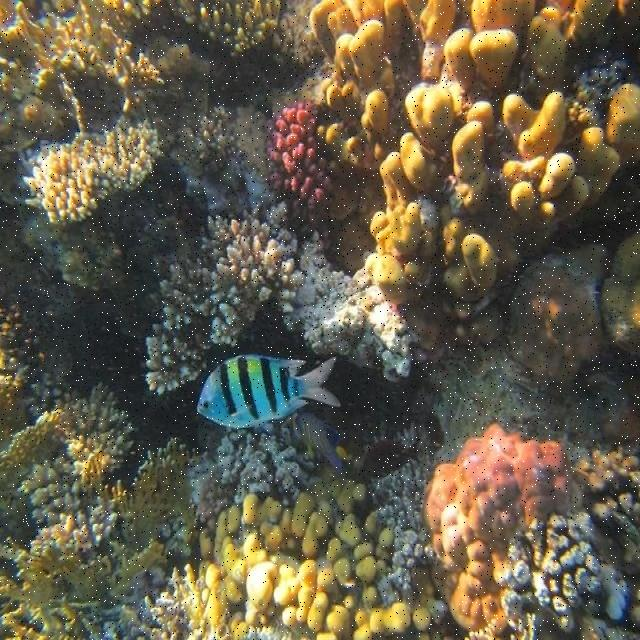aquatic plants: (1, 437, 200, 639)
fish: (195, 355, 338, 427), (283, 412, 348, 476)
reefs: (310, 0, 639, 345), (0, 1, 283, 228), (112, 478, 431, 639), (419, 422, 639, 631), (0, 302, 134, 552), (146, 206, 308, 397), (266, 97, 342, 201)
